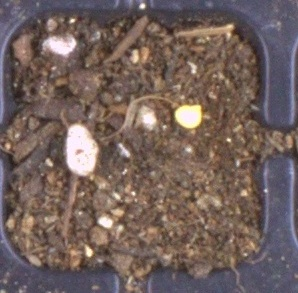chilli seed: (173, 103, 203, 129)
